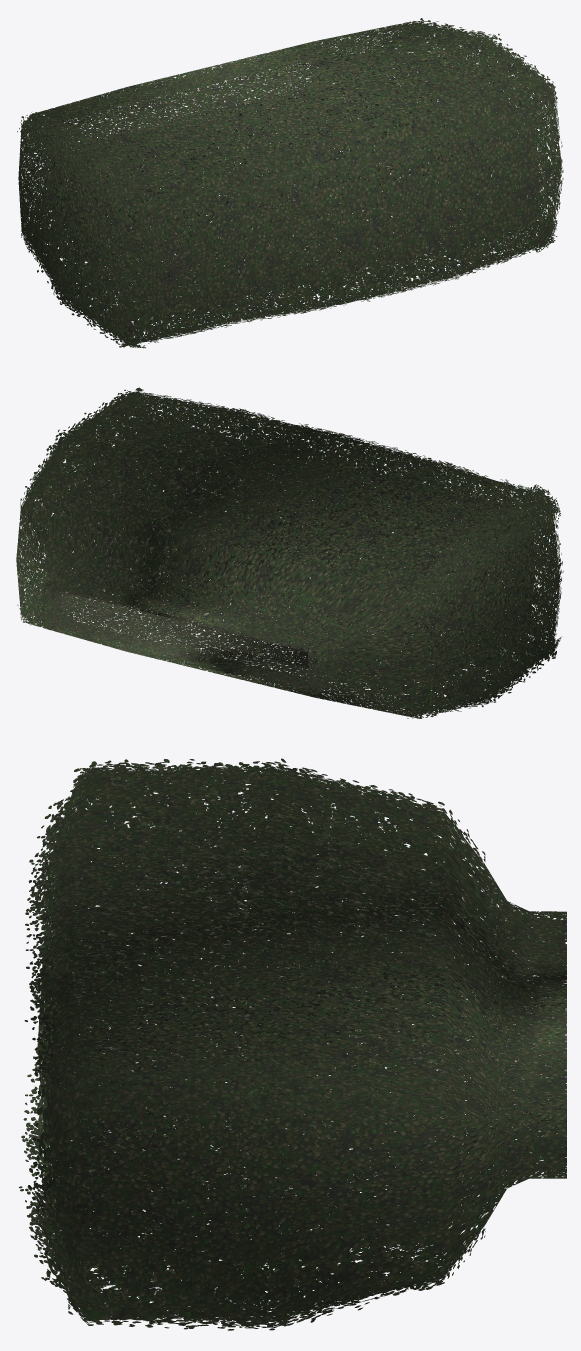
Rendered from nt_2020_foliage_hedge_boxy01_LOD0.obj.
The picture shows the model from 3 angles, top to bottom: view 1: azimuth 30°, elevation 25°; view 2: azimuth 150°, elevation 25°; view 3: azimuth 270°, elevation 25°; orthographic projection. The views are drawn at different scales.
Parts seen in each view (by area): view 1: mtl_p6_foliage_hedge2, mtl_p6_foliage_hedge_no_alpha, mtl_p6_foliage_hedge_edge; view 2: mtl_p6_foliage_hedge2, mtl_p6_foliage_hedge_no_alpha, mtl_p6_foliage_hedge_edge; view 3: mtl_p6_foliage_hedge2, mtl_p6_foliage_hedge_no_alpha, mtl_p6_foliage_hedge_edge.
Part boxes in pixels (<box>): mtl_p6_foliage_hedge2: <box>18,21,561,342</box>; mtl_p6_foliage_hedge_no_alpha: <box>50,49,539,317</box>; mtl_p6_foliage_hedge_edge: <box>17,18,563,348</box>; mtl_p6_foliage_hedge2: <box>16,393,559,716</box>; mtl_p6_foliage_hedge_no_alpha: <box>46,420,535,688</box>; mtl_p6_foliage_hedge_edge: <box>17,387,563,718</box>; mtl_p6_foliage_hedge2: <box>37,769,566,1321</box>; mtl_p6_foliage_hedge_no_alpha: <box>53,826,565,1265</box>; mtl_p6_foliage_hedge_edge: <box>19,758,485,1330</box>.
Bounding box in the file's own units: 343 × 131 × 240.
